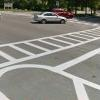Crosswalk: (4, 32, 99, 76)
